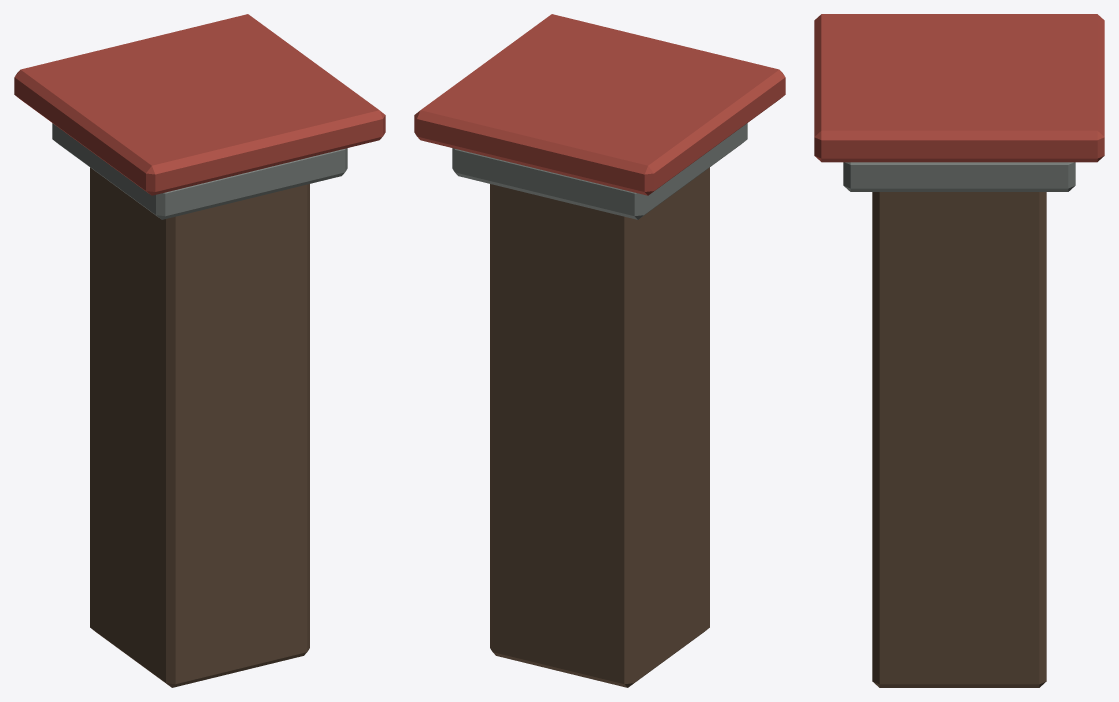
File: architecture-village-chimney.lod0.glb
3 renders of one model, left to right at view 1: azimuth 30°, elevation 25°; view 2: azimuth 150°, elevation 25°; view 3: azimuth 270°, elevation 25°, orthographic. The views are drawn at different scales.
Visible parts, largest first — view 1: architecture-village-chimney__body; view 2: architecture-village-chimney__body; view 3: architecture-village-chimney__body.
Boxes of the visible parts, <box> form: architecture-village-chimney__body: <box>14,14,385,687</box>; architecture-village-chimney__body: <box>414,14,785,687</box>; architecture-village-chimney__body: <box>814,14,1104,687</box>.
Size of the model in its own units: 1 by 2.21 by 1.
